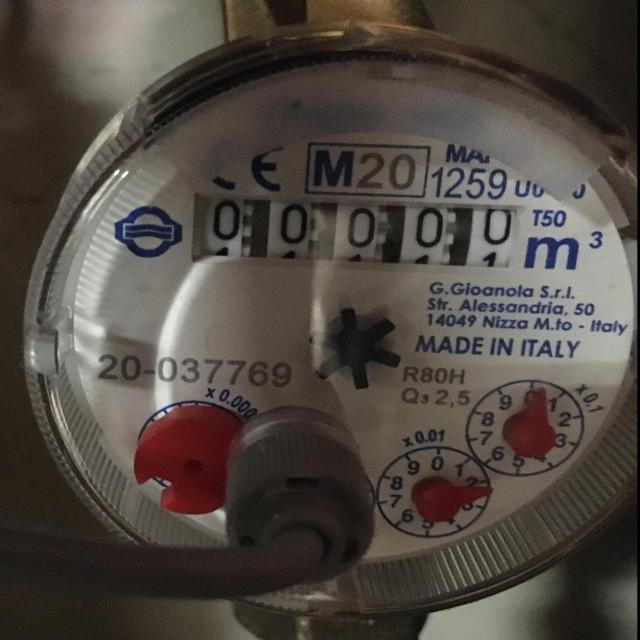gaz_meter: (44, 67, 637, 563)
indication: (192, 191, 521, 269)
